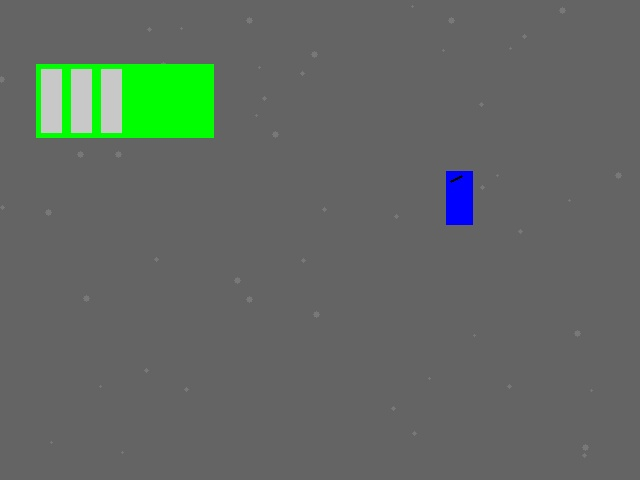bus: (36, 64, 213, 137)
motorcycle: (446, 171, 472, 224)
